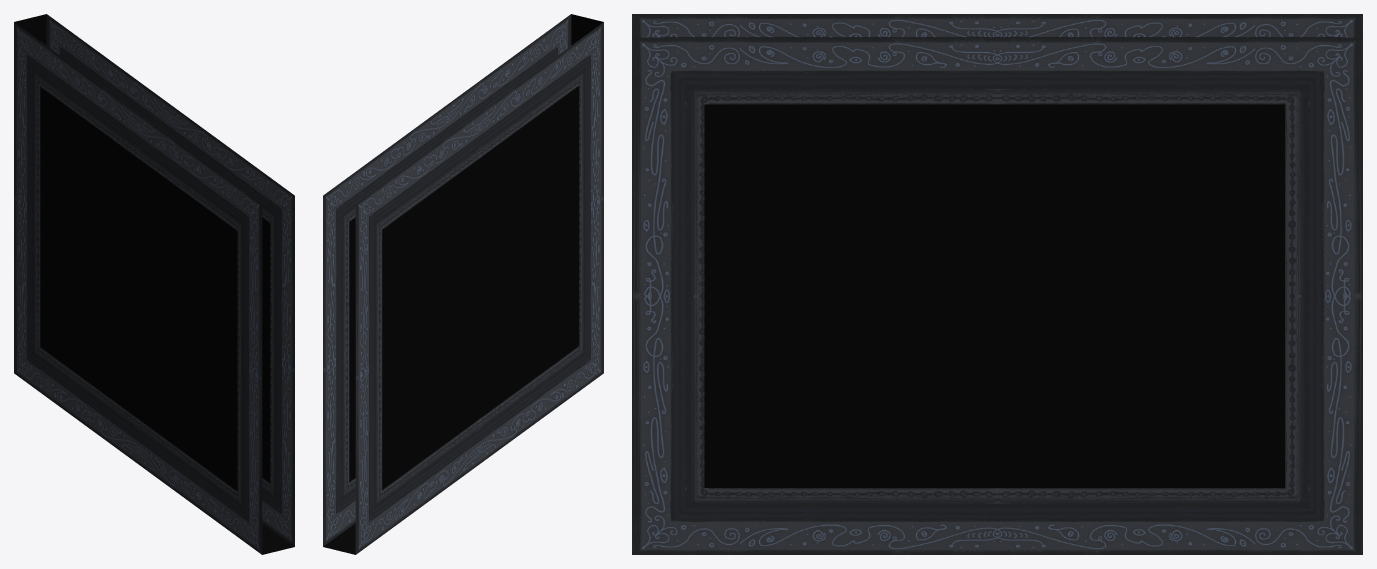
File: AI_rat._rahmenglb.glb
3 views of the same model, side by side, from view 1: azimuth 30°, elevation 25°; view 2: azimuth 150°, elevation 25°; view 3: azimuth 270°, elevation 25° (orthographic). The views are drawn at different scales.
Parts seen in each view (by area): view 1: 2D_Bilderrahmen_dark.001; view 2: 2D_Bilderrahmen_dark.001; view 3: 2D_Bilderrahmen_dark.001.
Boxes of the visible parts, x1=… form: 2D_Bilderrahmen_dark.001: x1=14, y1=14, x2=294, y2=554; 2D_Bilderrahmen_dark.001: x1=323, y1=14, x2=603, y2=554; 2D_Bilderrahmen_dark.001: x1=632, y1=14, x2=1362, y2=554.
Bounding box in the file's own units: 0.4417 × 4.53 × 5.8.
3 materials, 1 textured.
